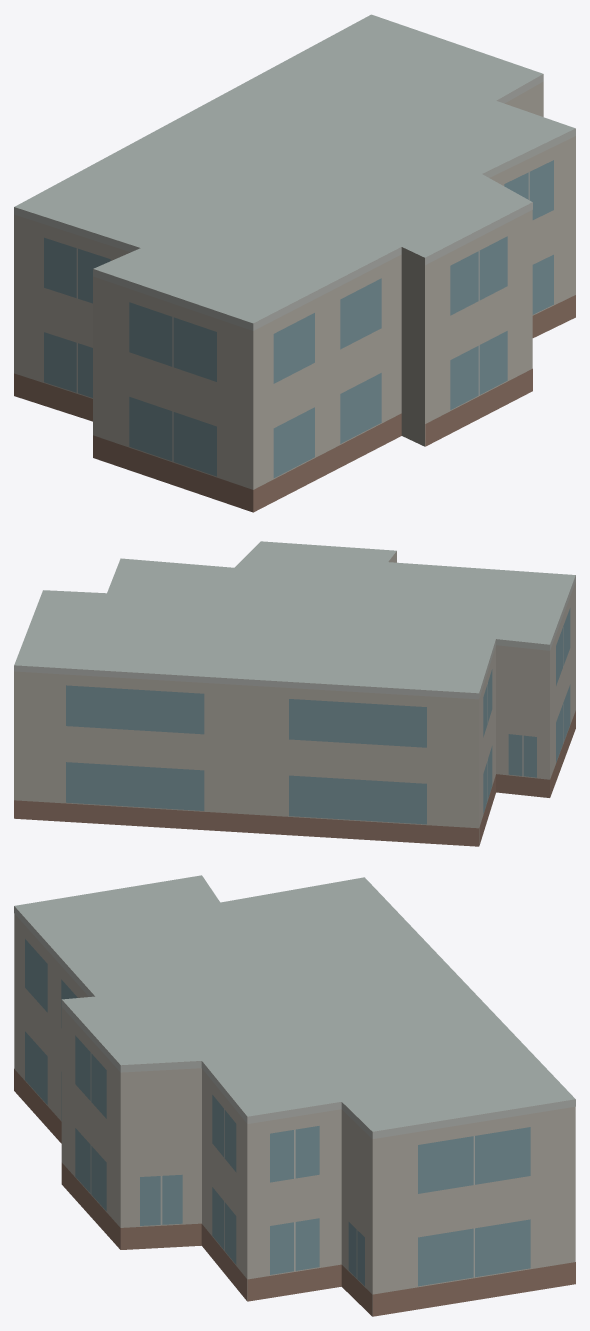
Rendered from survey-upis-32834474.glb.
The picture shows the model from 3 angles, top to bottom: view 1: azimuth 30°, elevation 25°; view 2: azimuth 150°, elevation 25°; view 3: azimuth 270°, elevation 25°; orthographic projection. The views are drawn at different scales.
Visible parts, largest first — view 1: survey-upis-32834474.tmp; view 2: survey-upis-32834474.tmp; view 3: survey-upis-32834474.tmp.
Boxes of the visible parts, x1,y1,x2,y2 form: survey-upis-32834474.tmp: [14, 14, 575, 512]; survey-upis-32834474.tmp: [14, 541, 575, 846]; survey-upis-32834474.tmp: [14, 875, 575, 1316].
Bounding box in the file's own units: 18.17 × 6.1 × 16.81.
